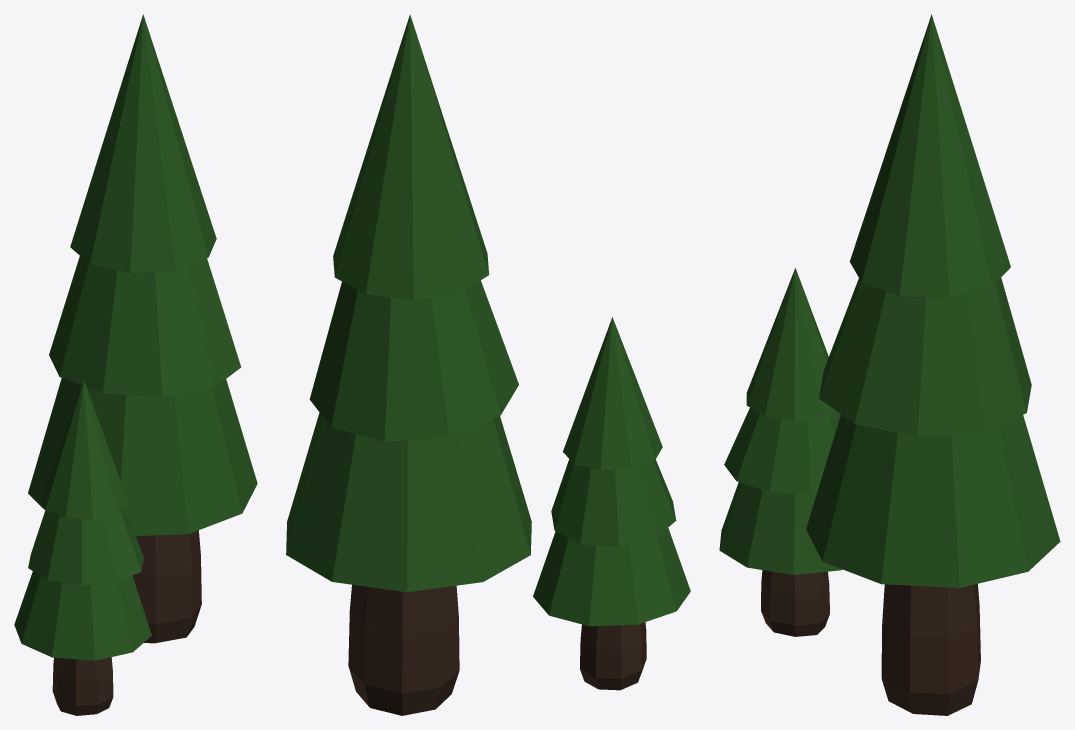
The model's file is pinheiro2.fbx.
3 views of the same model, side by side, from view 1: azimuth 30°, elevation 25°; view 2: azimuth 150°, elevation 25°; view 3: azimuth 270°, elevation 25° (orthographic). The views are drawn at different scales.
Parts seen in each view (by area): view 1: Cone.001, Cone.002, Plane.002, Plane; view 2: Cone.001, Cone.002, Plane.002, Plane; view 3: Cone.001, Cone.002, Plane.002, Plane.
Boxes of the visible parts, bbox=[...] form: Cone.001: bbox=[28, 14, 257, 536]; Cone.002: bbox=[14, 380, 151, 660]; Plane.002: bbox=[132, 530, 201, 643]; Plane: bbox=[52, 657, 113, 715]; Cone.001: bbox=[286, 14, 531, 592]; Cone.002: bbox=[533, 317, 690, 626]; Plane.002: bbox=[348, 584, 459, 715]; Plane: bbox=[580, 622, 646, 690]; Cone.001: bbox=[806, 14, 1060, 587]; Cone.002: bbox=[719, 268, 842, 574]; Plane.002: bbox=[881, 584, 980, 715]; Plane: bbox=[761, 570, 829, 636].
Bounding box in the file's own units: 88.27 × 188 × 84.72.
